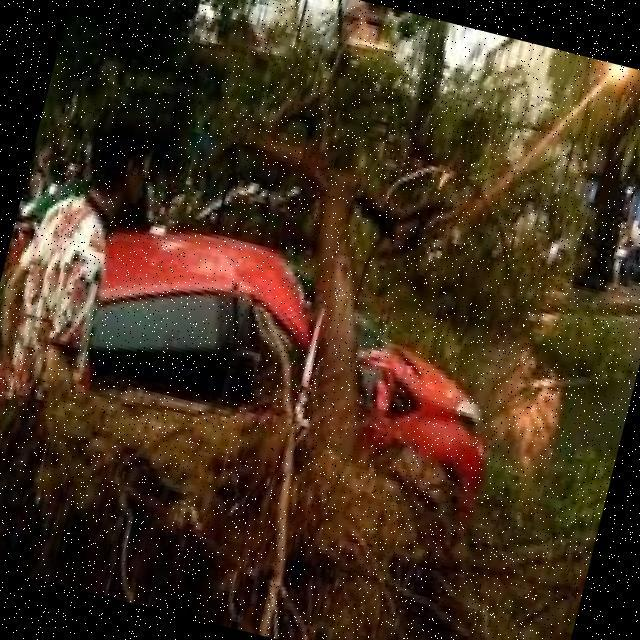fallen_object: (131, 46, 559, 640)
